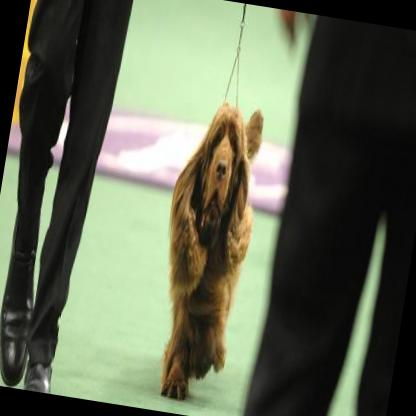Sussex_spaniel: (138, 76, 274, 412)
